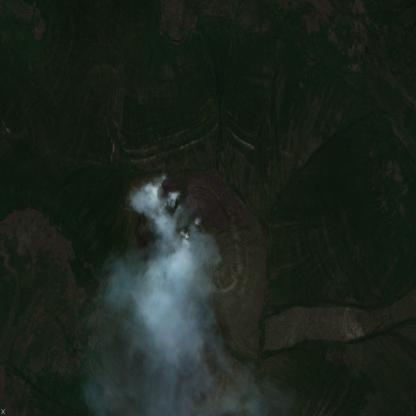fire: (153, 170, 204, 250)
